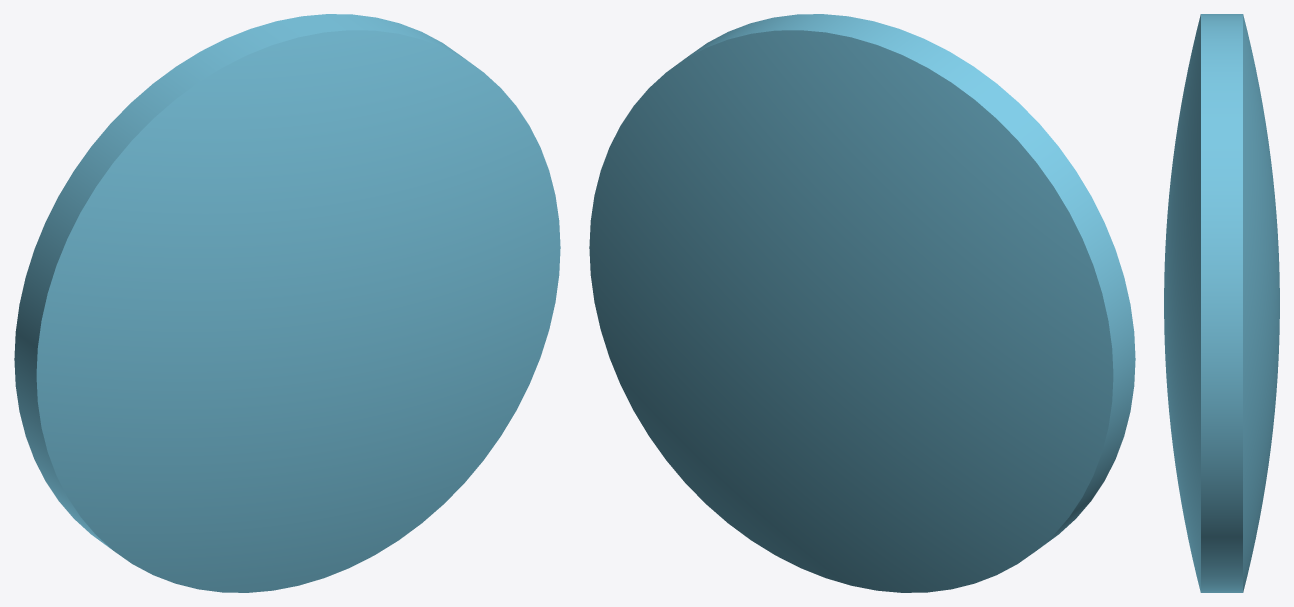
The model's file is biconvex-lens.glb.
3 views of the same model, side by side, from view 1: azimuth 30°, elevation 25°; view 2: azimuth 150°, elevation 25°; view 3: azimuth 270°, elevation 25° (orthographic). The views are drawn at different scales.
Visible parts, largest first — view 1: lens-body; view 2: lens-body; view 3: lens-body.
Boxes of the visible parts, x1,y1,x2,y2 form: lens-body: (14,14,560,592); lens-body: (589,14,1135,592); lens-body: (1164,14,1279,592).
Bounding box in the file's own units: 0.05 × 0.05 × 0.01.
